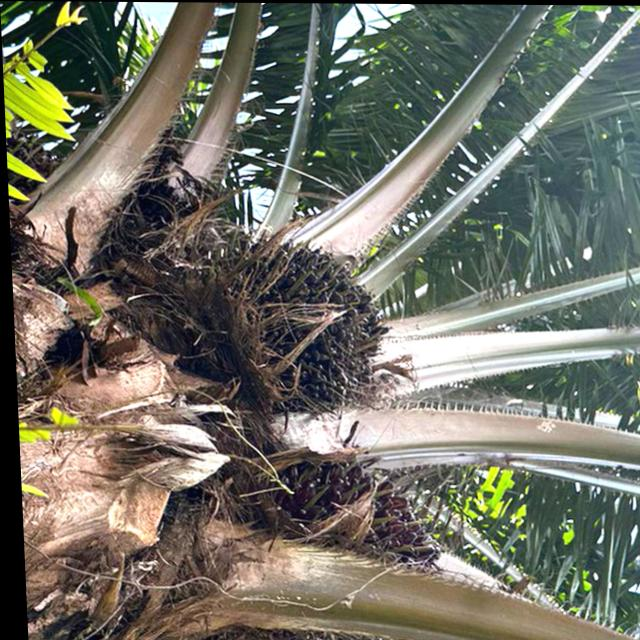unripe: (218, 232, 400, 419), (240, 444, 450, 595)
